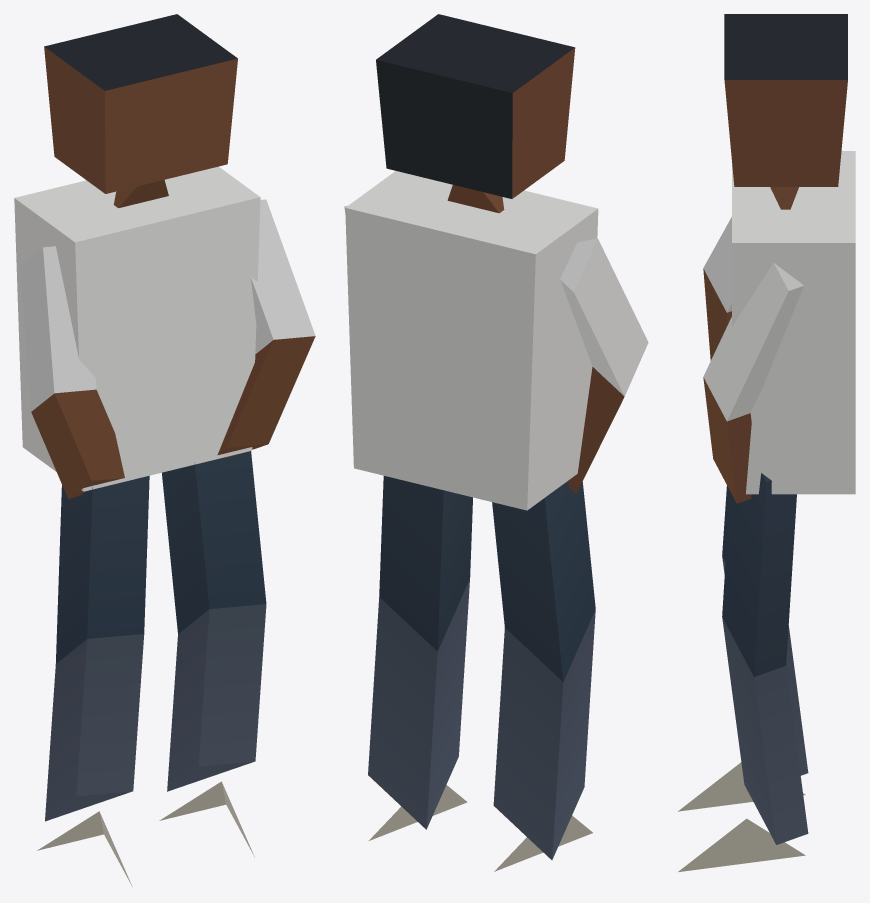
File: fan-07.glb
3 views of the same model, side by side, from view 1: azimuth 30°, elevation 25°; view 2: azimuth 150°, elevation 25°; view 3: azimuth 270°, elevation 25° (orthographic). The views are drawn at different scales.
Visible parts, largest first — view 1: fan-07; view 2: fan-07; view 3: fan-07.
Part boxes in pixels (x1,y1,x2,y2): fan-07: (14, 14, 315, 886); fan-07: (344, 14, 648, 871); fan-07: (678, 14, 855, 871).
Size of the model in its own units: 0.6475 by 1.77 by 0.36.
